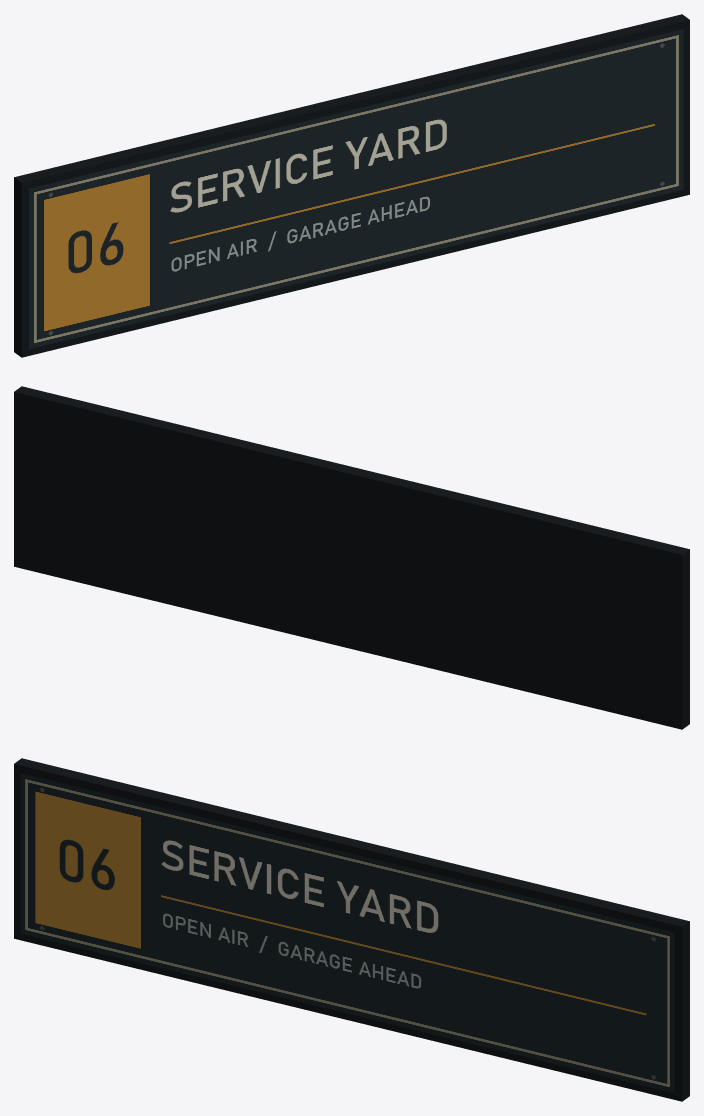
Rendered from YardSign.obj.
3 views of the same model, one above another, from view 1: azimuth 30°, elevation 25°; view 2: azimuth 150°, elevation 25°; view 3: azimuth 330°, elevation 25° (orthographic).
Visible parts, largest first — view 1: YardSign; view 2: YardSign; view 3: YardSign.
Part boxes in pixels (left/top/right/bottom): YardSign: left=14, top=14, right=689, bottom=357; YardSign: left=14, top=386, right=689, bottom=729; YardSign: left=14, top=758, right=689, bottom=1101.
Size of the model in its own units: 4 by 1 by 0.085.
Materials: 2 (1 with a texture image).
